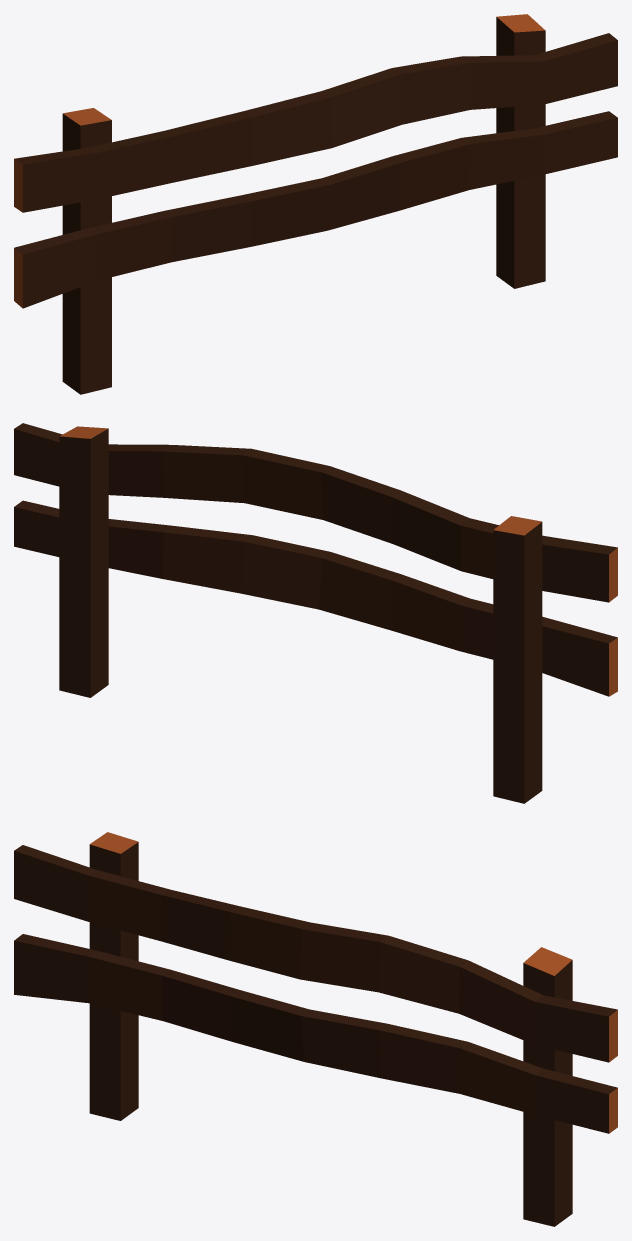
File: cloture_01.fbx
3 views of the same model, one above another, from view 1: azimuth 30°, elevation 25°; view 2: azimuth 150°, elevation 25°; view 3: azimuth 330°, elevation 25° (orthographic).
Parts seen in each view (by area): view 1: Cube; view 2: Cube; view 3: Cube.
Part boxes in pixels (box(x1,y1,x2,y2)): Cube: box(14, 14, 617, 394); Cube: box(14, 423, 617, 803); Cube: box(14, 832, 617, 1226).
Bounding box in the file's own units: 1018 × 440 × 114.
